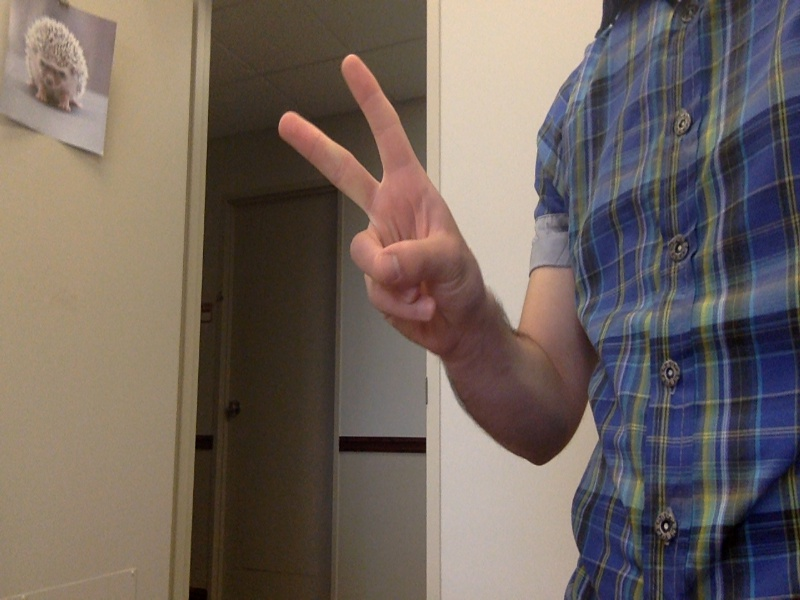2-hand: (277, 52, 484, 343)
